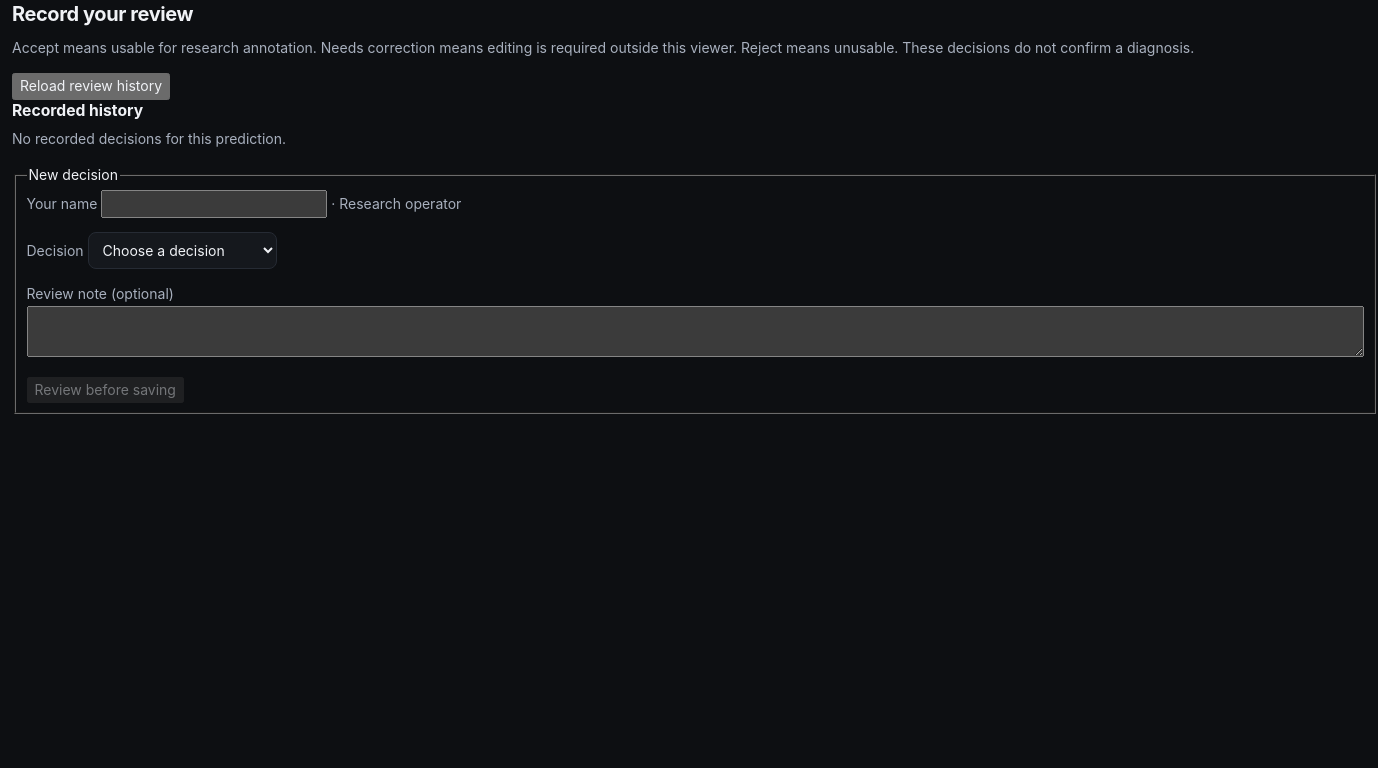
Scenario: durable decisions › keeps the draft and uses the same request when the acknowledgment fails
The image size is (1378, 768).
Expected: the text "No recorded decisions for this prediction." is shown, 12,130 -> 286,147
Type "Invented operator" into the field labelled "Your name" at x=214, y=204, box 101,190 -> 327,218
Select "Needs correction" in the dropdown labelled "Decision" at x=182, y=251, box 88,232 -> 276,269
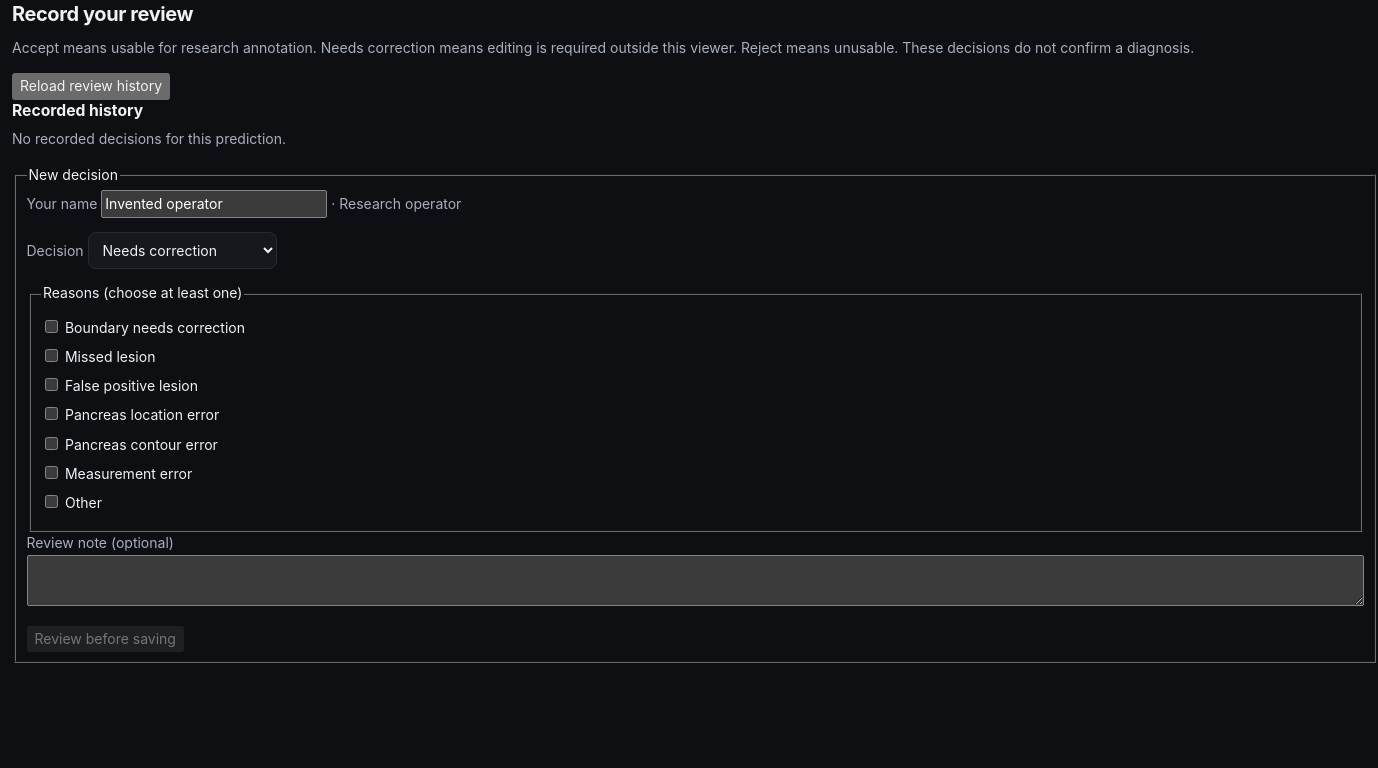
Click the checkbox labelled "Boundary needs correction" at x=52, y=326, box 45,320 -> 58,333
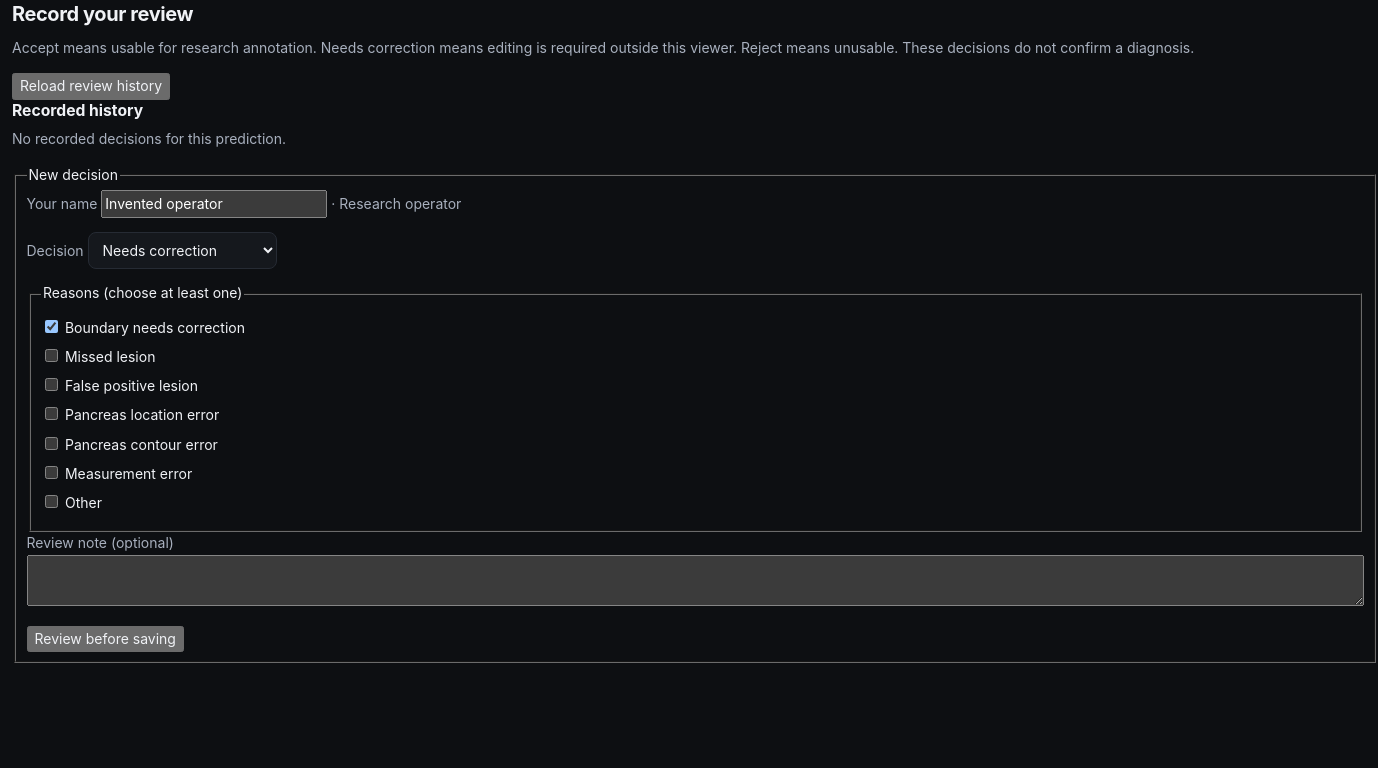
Type "Synthetic review" into the text box labelled "Review note (optional)" at x=695, y=580, box 26,555 -> 1364,606
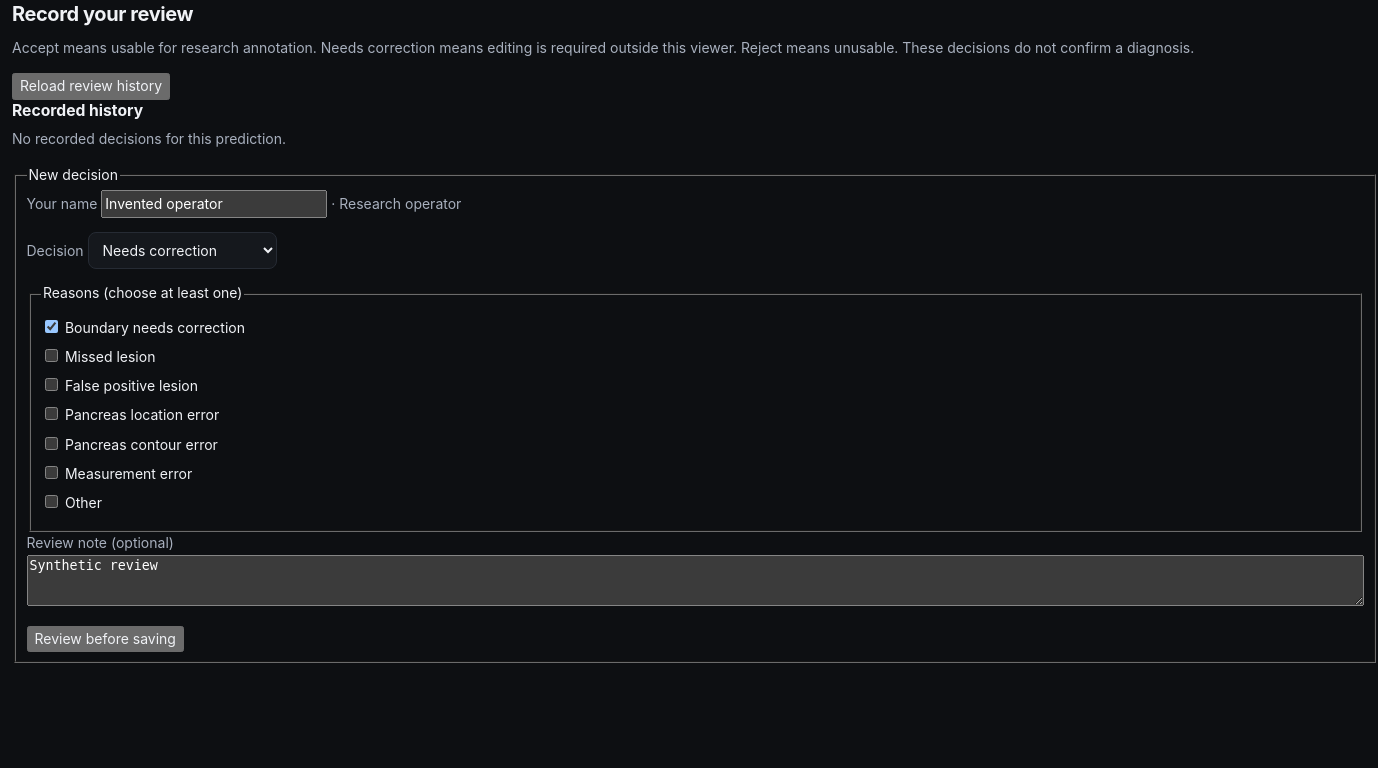
Click the button "Review before saving" at x=105, y=639, box 26,626 -> 184,652
(page scrolled)
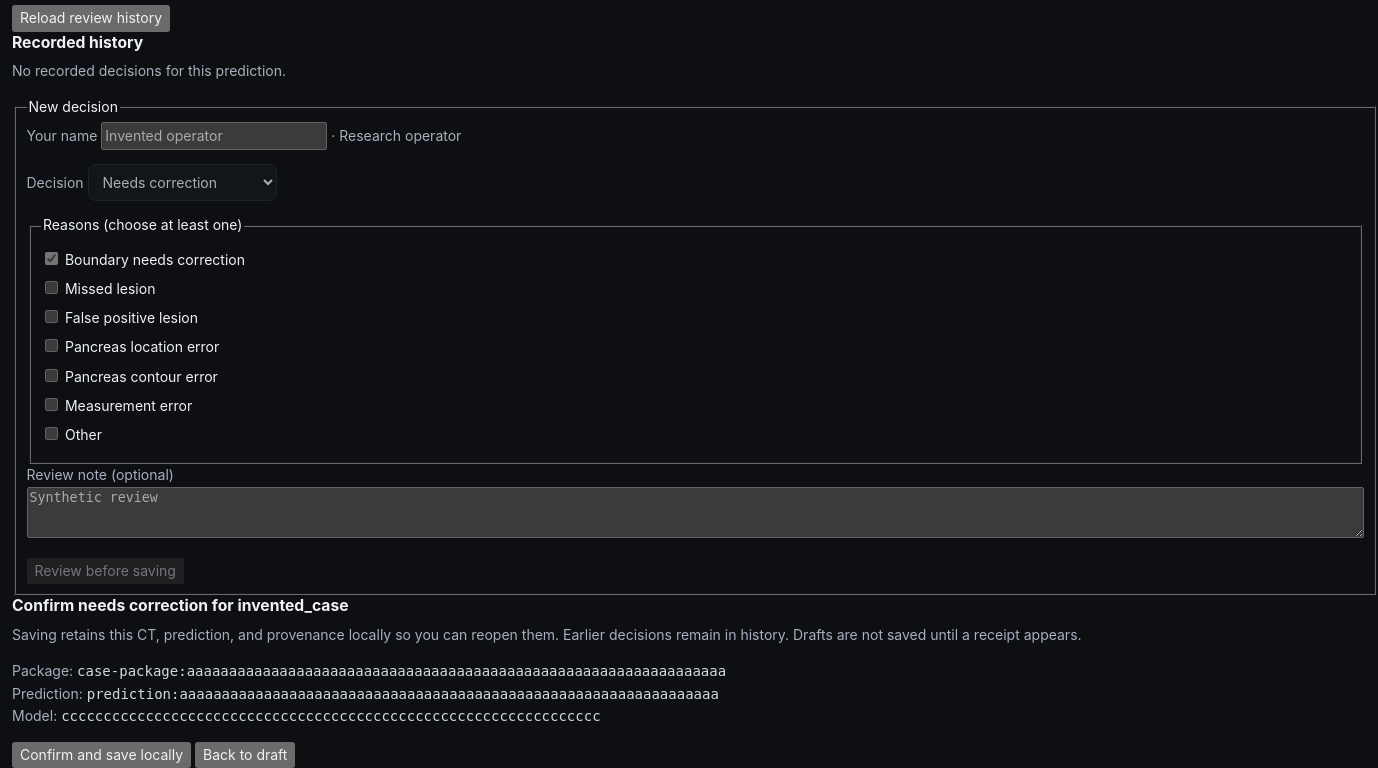
Click the button "Confirm and save locally" at x=102, y=755, box 12,742 -> 191,767
(page scrolled)
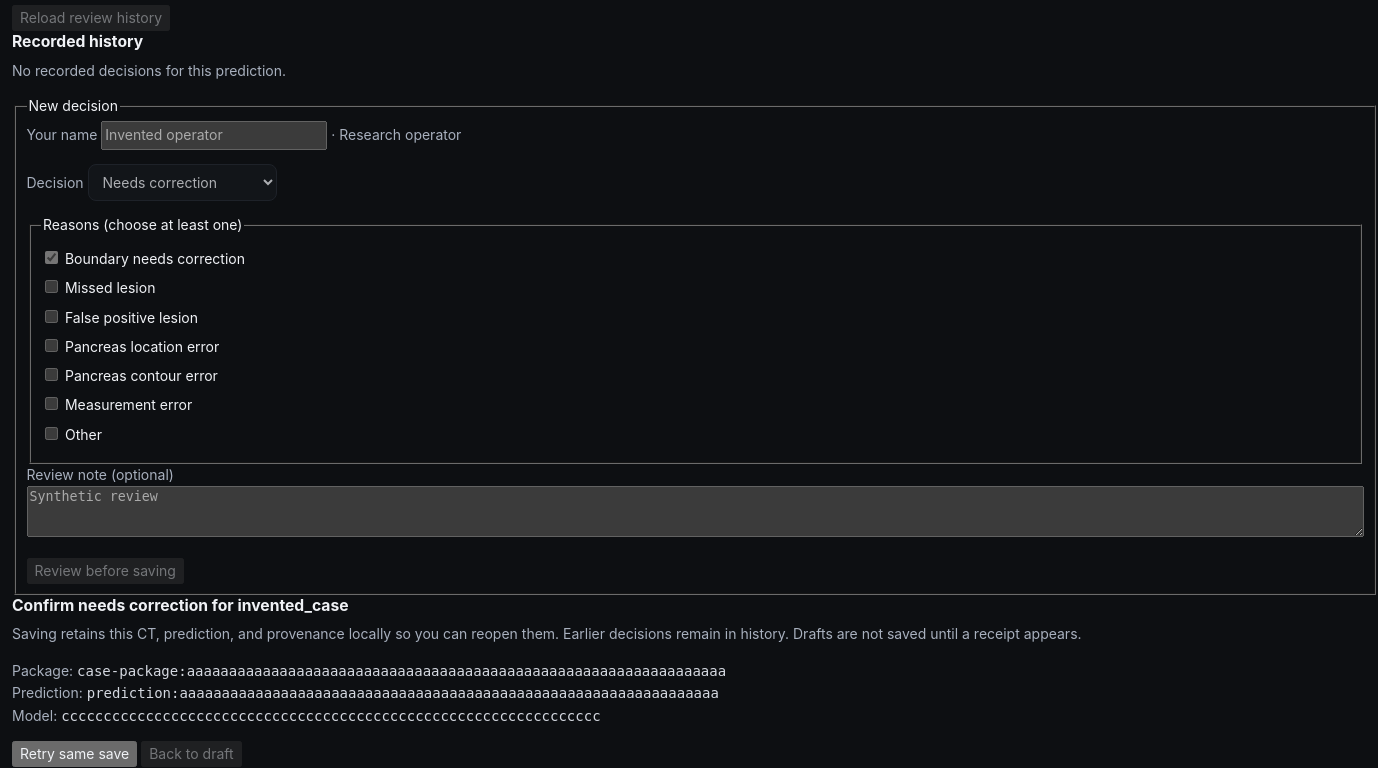
Expected: the text "Saved locally" is not shown
Click the button "Retry same save" at x=75, y=754, box 12,741 -> 137,767
(page scrolled)
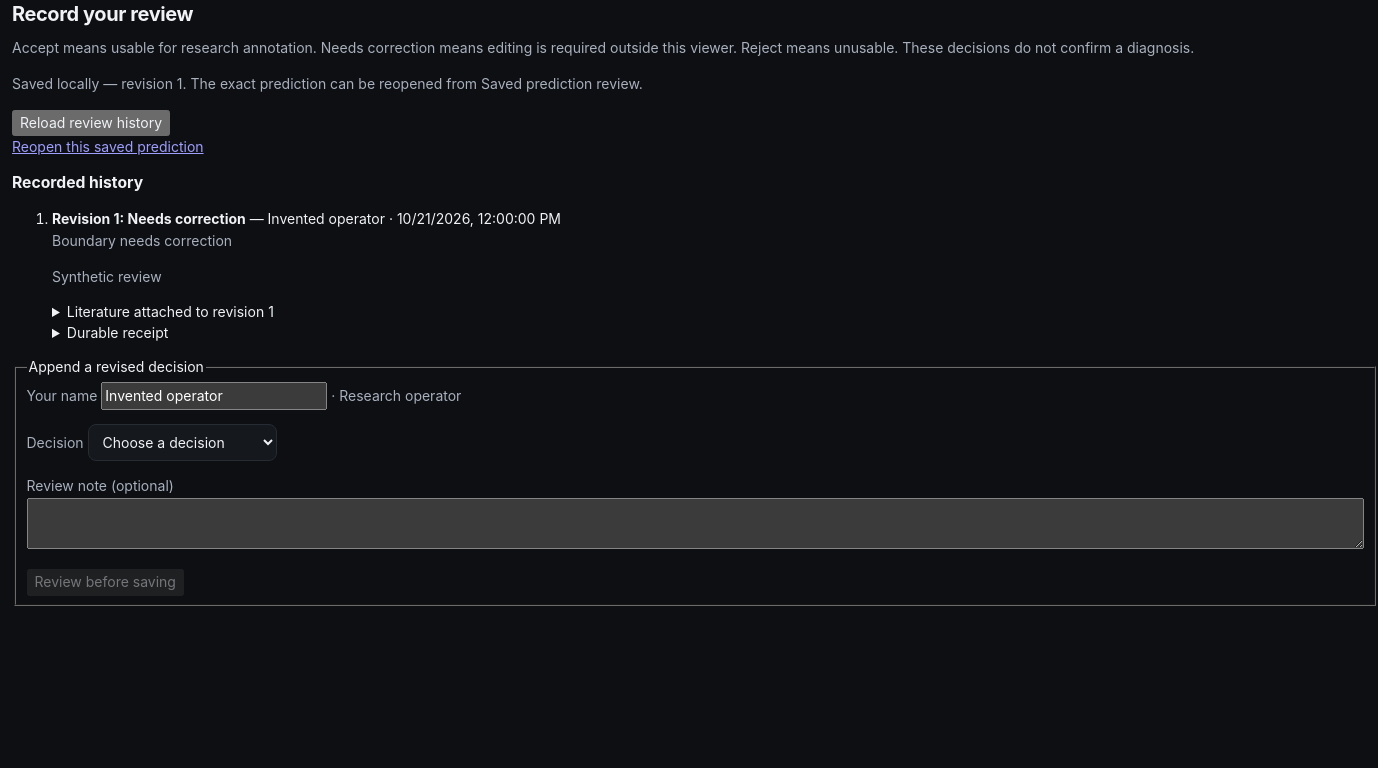
Result: the text "Saved locally — revision 1" is shown at 12,75 -> 643,92
